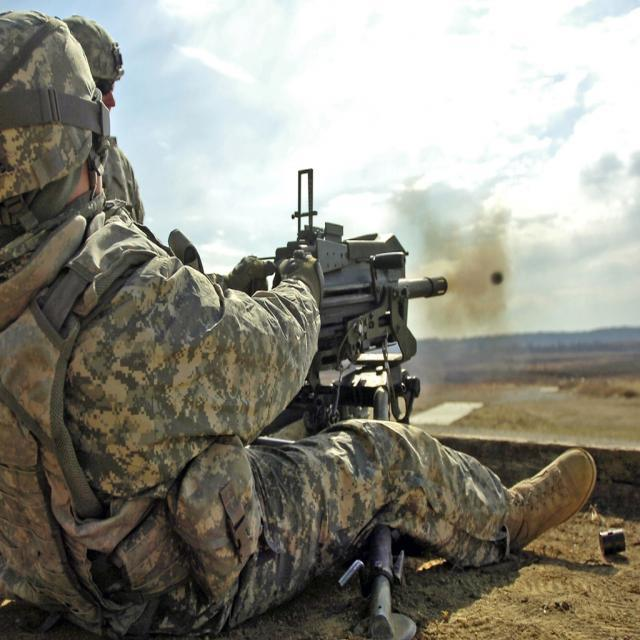weapon: (232, 202, 465, 450)
